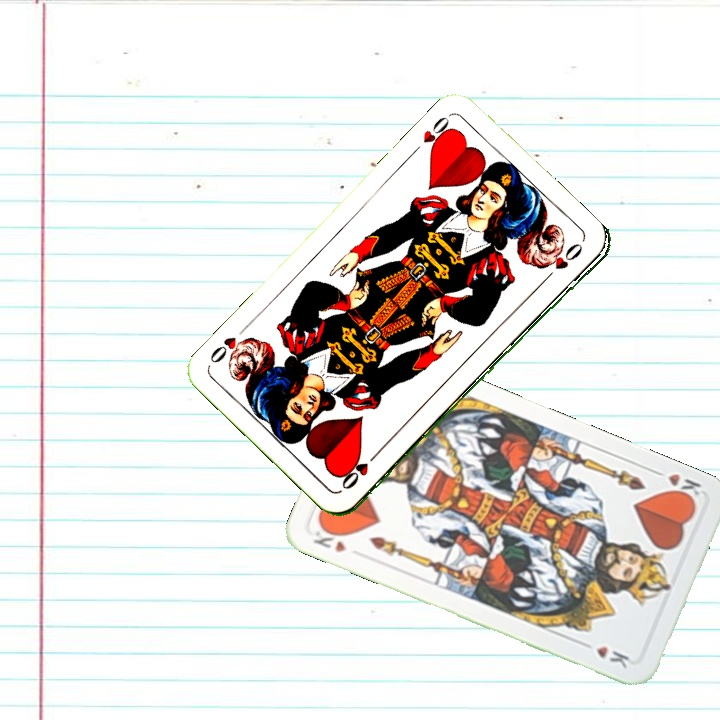HK: (662, 469, 704, 505), (309, 522, 349, 556)
HO: (407, 111, 457, 158), (337, 446, 382, 492)
